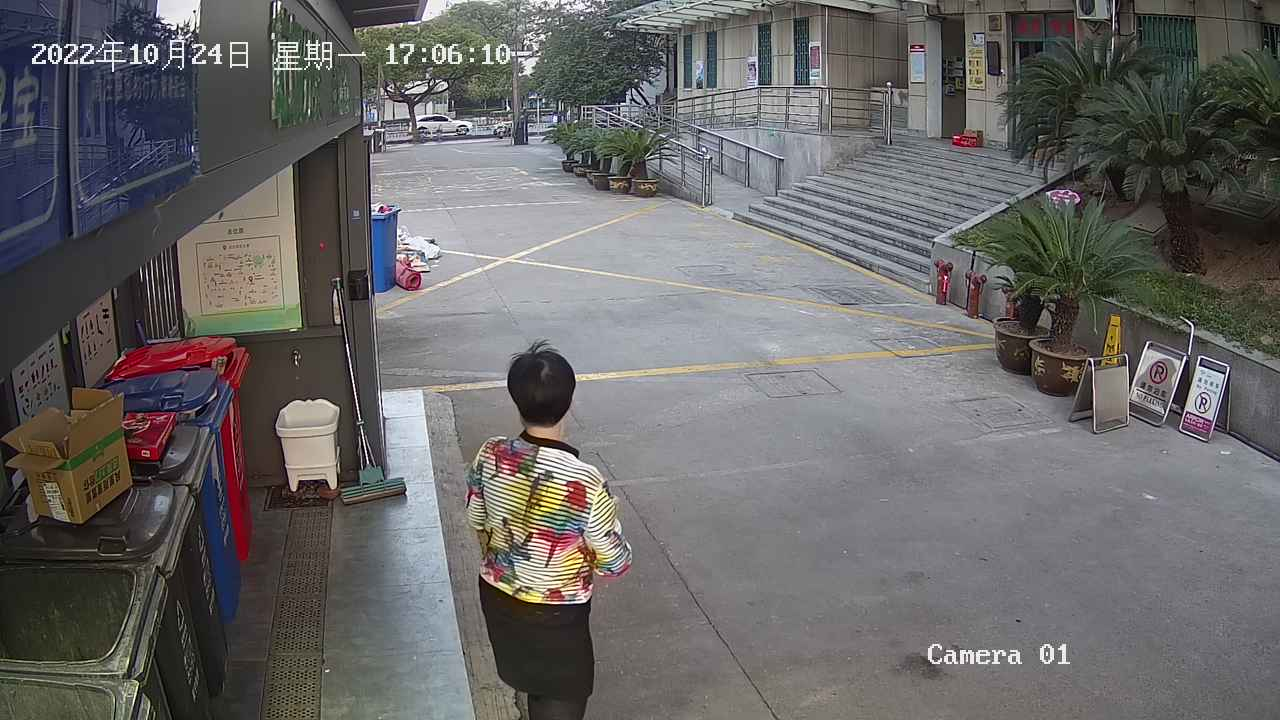person: (458, 334, 641, 720)
